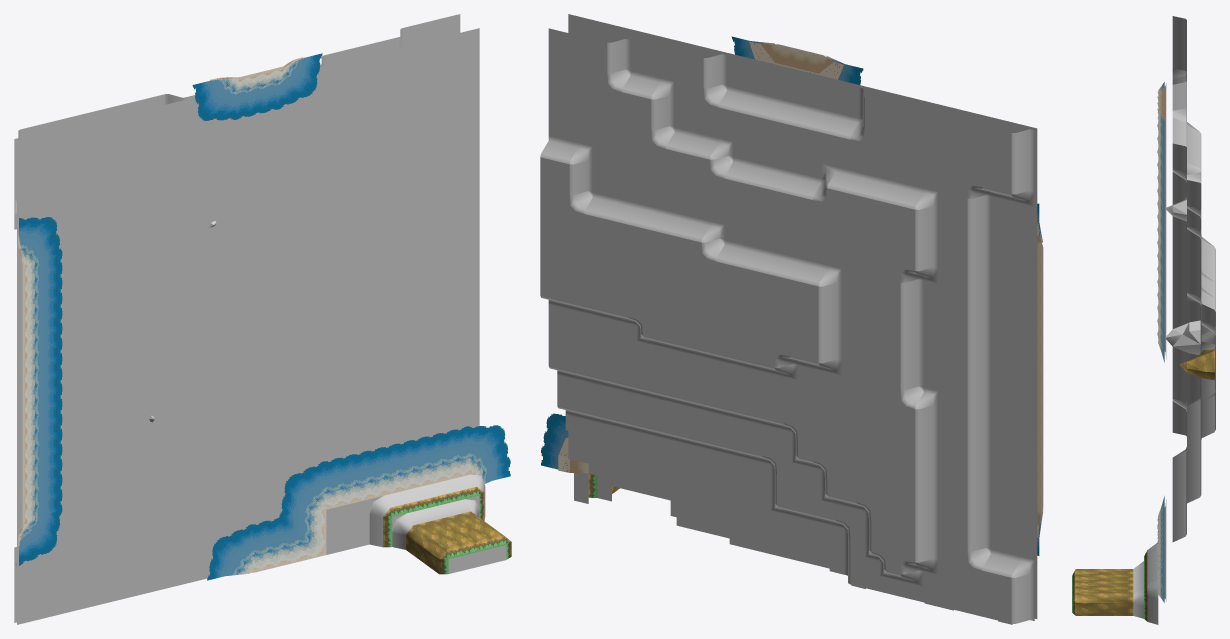
Rendered from Barrier-Reef_13_03.obj.
The picture shows the model from 3 angles, left to right: view 1: azimuth 30°, elevation 25°; view 2: azimuth 150°, elevation 25°; view 3: azimuth 270°, elevation 25°; orthographic projection. The views are drawn at different scales.
Visible parts, largest first — view 1: map; view 2: map; view 3: map.
Part boxes in pixels (x1,y1,x2,y2): map: (14,14,511,624); map: (540,14,1043,624); map: (1072,16,1215,624).
Size of the model in its own units: 34 by 33.12 by 10.
